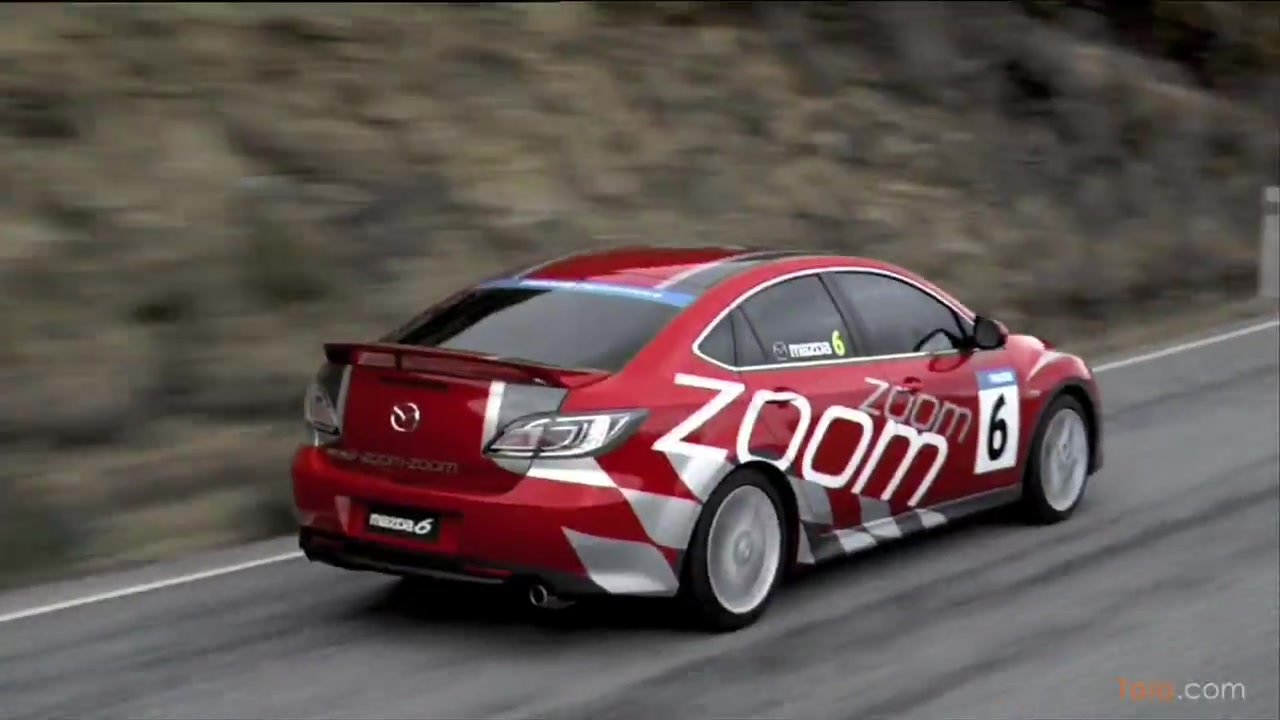car: (282, 241, 1106, 641)
